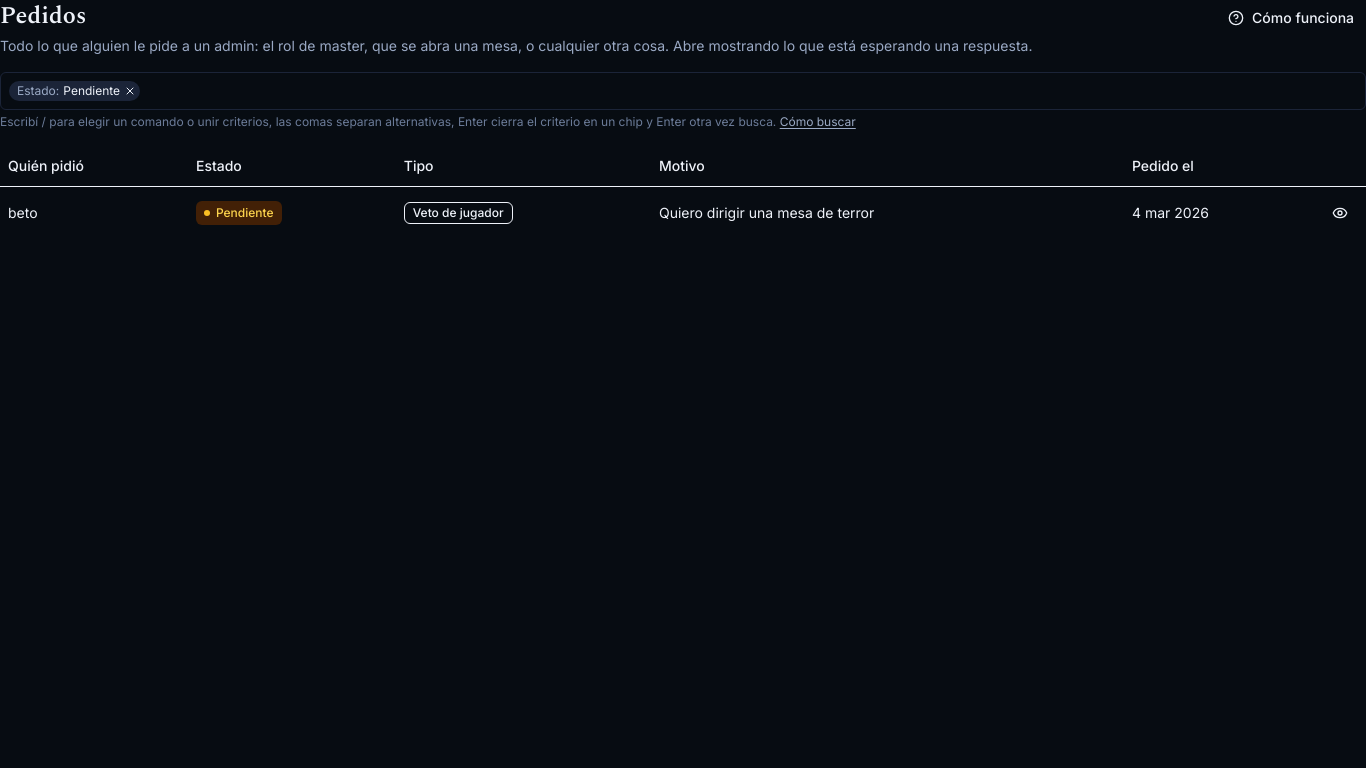
Scenario: AdminRequestsPage › offers no approve or reject on a player veto, only the detail
Click the button named "Ver detalle": coordinates (1340, 212) [1322,194,1358,230]
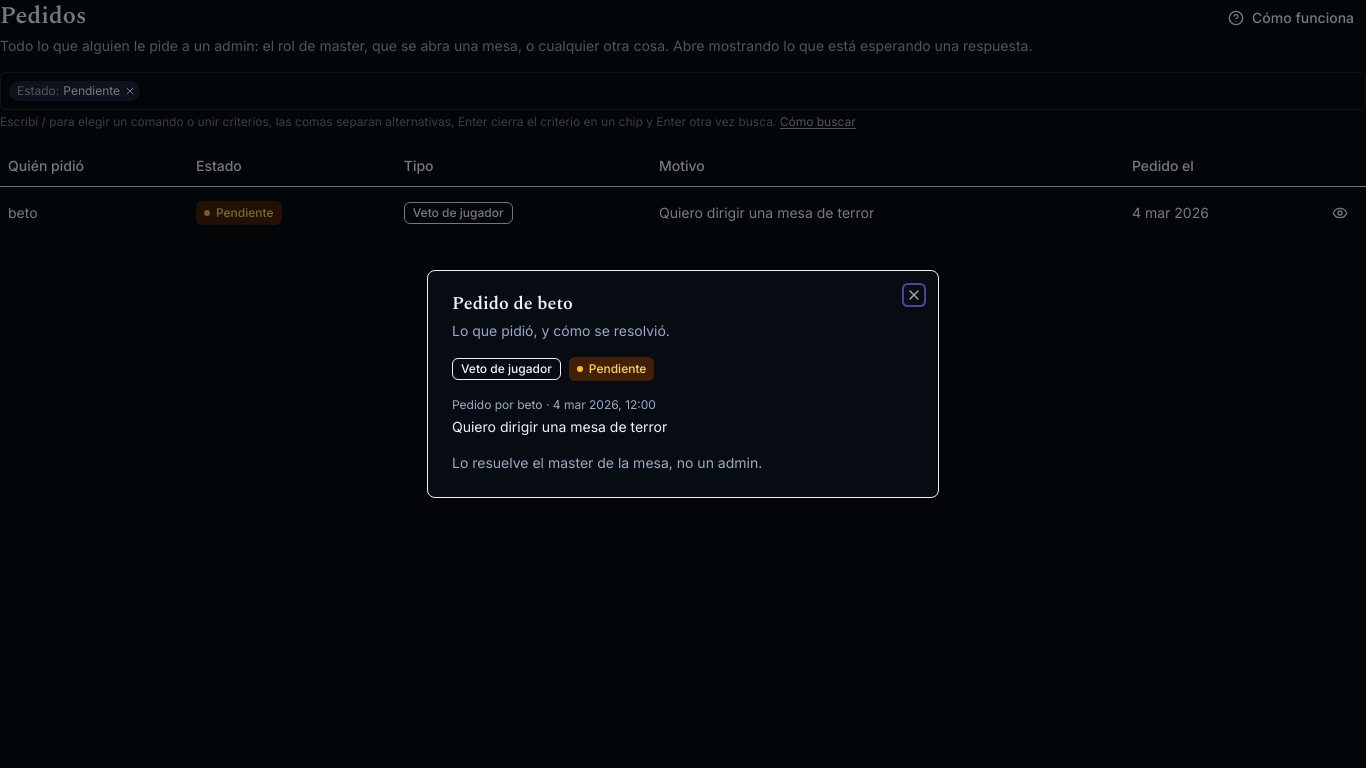
Expected: the text "Lo resuelve el master de la mesa, no un admin." is shown, [452,454,762,471]
